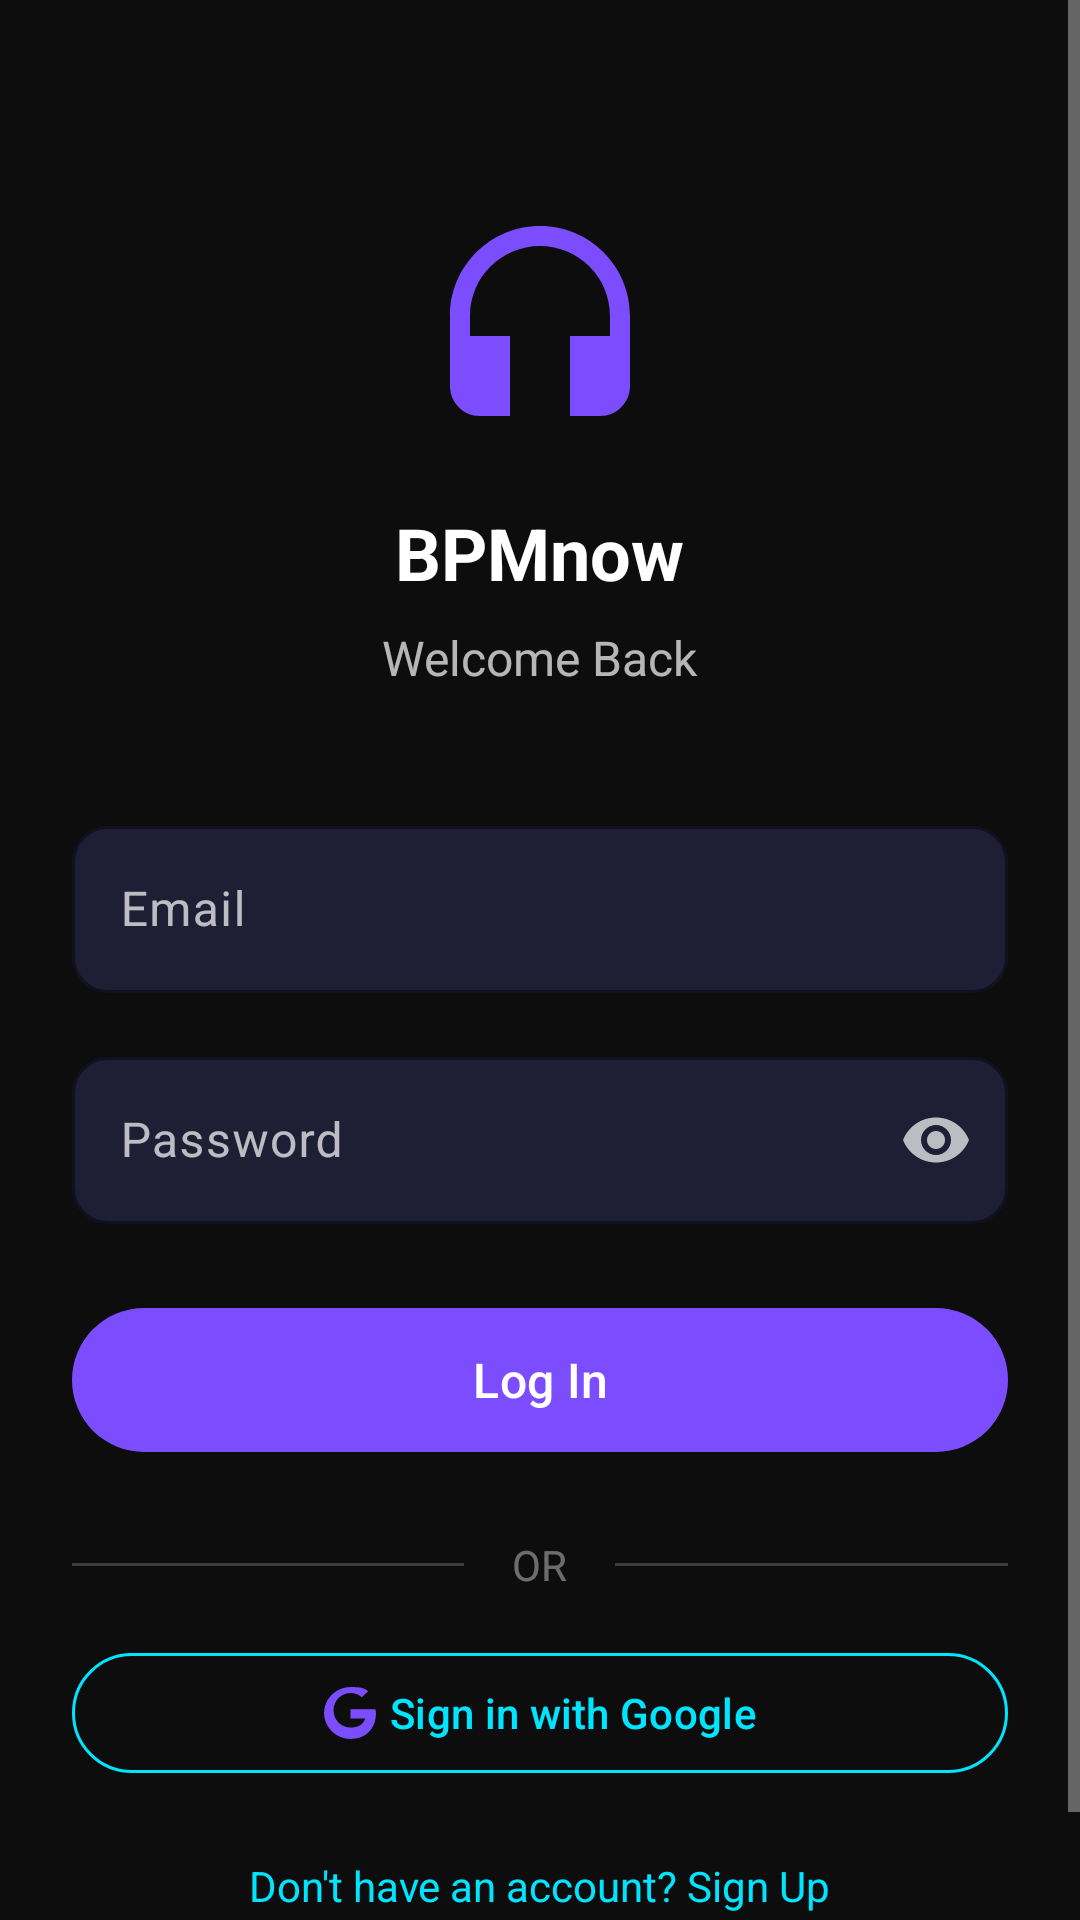

Named icons in this screenshot (1080*1920) and their bounding boxes, Rect(x1, y1, x2, y2):
headphones: Rect(449, 226, 630, 416)
